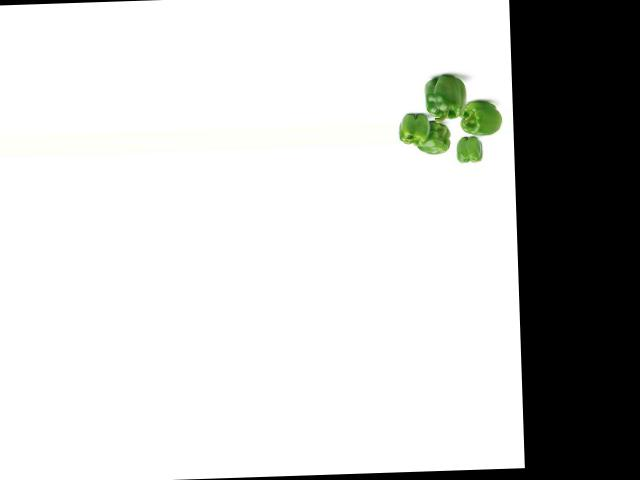bell_pepper: (397, 108, 432, 144)
